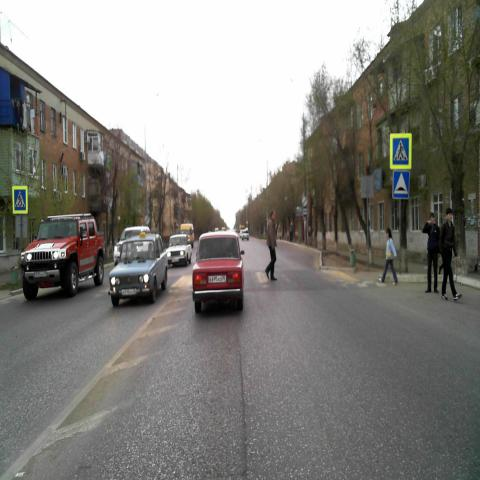5_19_1: (390, 132, 410, 170), (12, 186, 27, 215)
5_20: (392, 170, 408, 198)
